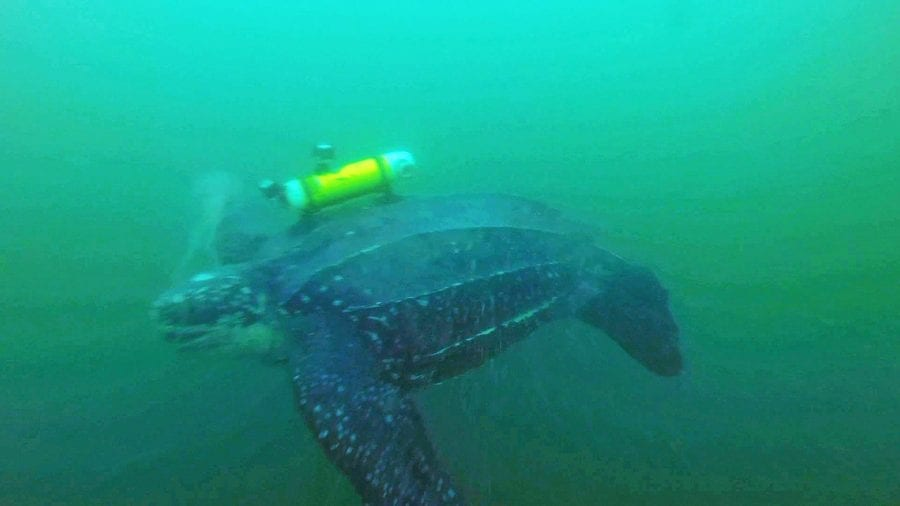trutle: (100, 156, 713, 493)
